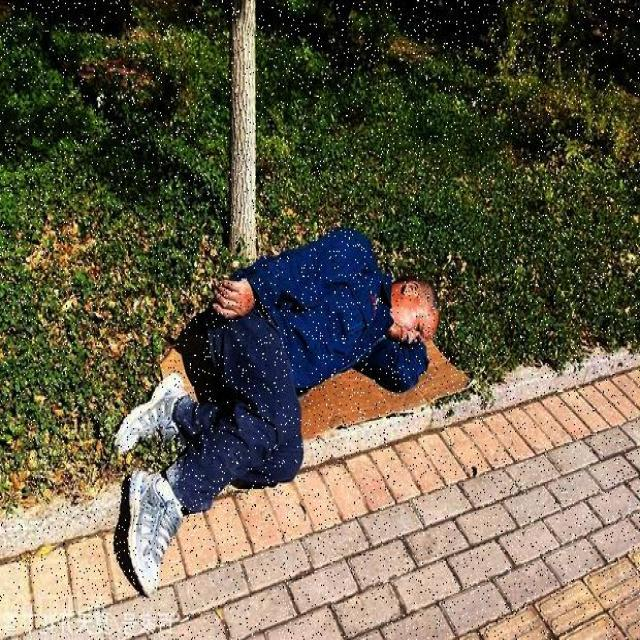fall: (134, 238, 442, 550)
